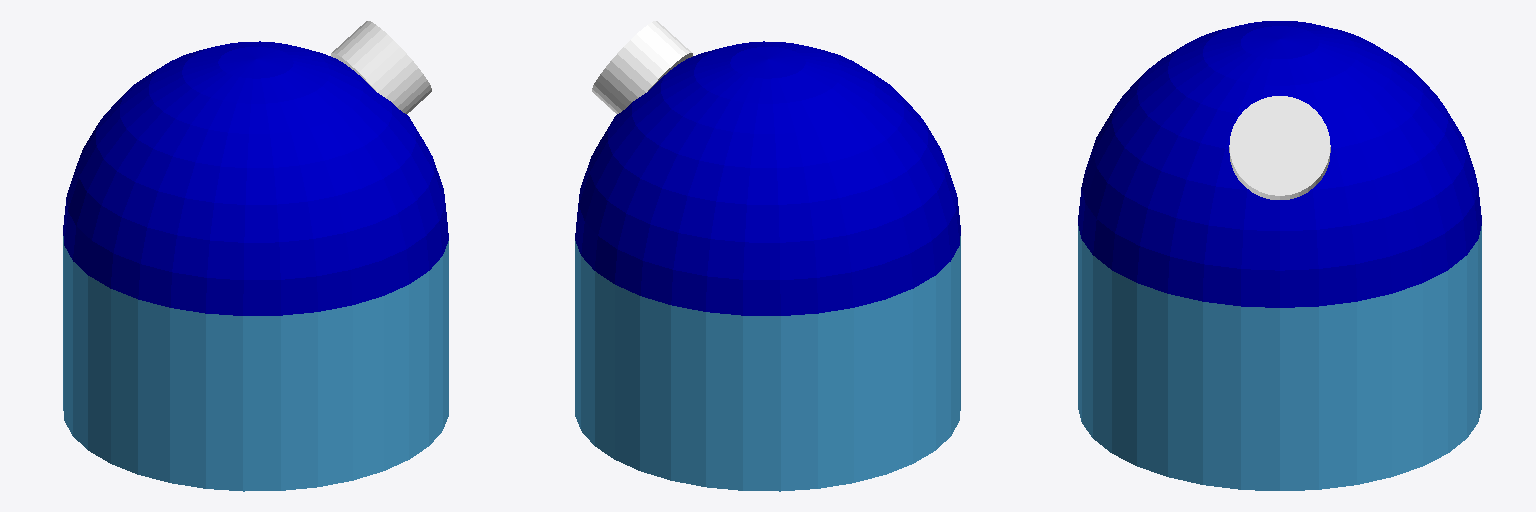
The robot description file, URDF, robot "webcam_project":
<?xml version="1.0"?>
<robot name="webcam_project">

  <link name="w"/>

  <joint name="world_to_servo1" type="fixed">
    <parent link="w"/>
    <child link="servo1"/>
    <origin xyz="0 0 0" rpy="0 0 0"/>
  </joint>

 <link name="servo1">
    <visual>
      <geometry>
        <cylinder length="0.2" radius="0.2"/>
      </geometry>
      <origin rpy="0 0 0" xyz="0 0 0.1"/>
    </visual>
  </link>

  <joint name="servo1_to_servo2" type="continuous">
    <parent link="servo1"/>
    <child link="servo2"/>
    <origin xyz="0 0 0.2"/>
    <axis xyz="0 0 1"/>
  </joint>

  <link name="servo2">
    <visual>
      <geometry>
         <sphere radius="0.2"/>
      </geometry>
      <origin rpy="0 0 0" xyz="0 0 0"/>
      <material name="blue">
        <color rgba="0 0 .8 1"/>
      </material>
    </visual>
  </link>

  <joint name="servo2_to_webcam" type="revolute">
    <limit effort="10.0" lower="-0.9" upper="0.6" velocity="0.5"/>
    <parent link="servo2"/>
    <child link="webcam"/>
    <origin xyz="0.15 0 0.15" rpy="0 1 0"/>
    <axis xyz="0 1 0"/>
  </joint>

  <link name="webcam">
    <visual>
      <geometry>
         <cylinder length="0.05" radius="0.05"/>
      </geometry>
      <origin rpy="0 0 0" xyz="0 0 0"/>
      <material name="white">
        <color rgba="1 1 1 1"/>
      </material>
    </visual>
  </link>
</robot>

--- Facts derived from the render (not from the file) ---
3 views of the same robot in one strip: view 1: azimuth 30°, elevation 25°; view 2: azimuth 150°, elevation 25°; view 3: azimuth 270°, elevation 25° (orthographic).
Robot: webcam_project — 4 links, 3 joints (1 revolute, 1 continuous, 1 fixed); root link w; default pose: all joints at 0.
Links seen in each view (by area): view 1: servo2, servo1, webcam; view 2: servo2, servo1, webcam; view 3: servo2, servo1, webcam.
Boxes of the visible links, box(x1,y1,x2,y2) form: servo2: box(63, 41, 448, 315); servo1: box(63, 236, 448, 491); webcam: box(331, 21, 431, 113); servo2: box(575, 41, 960, 315); servo1: box(575, 236, 960, 491); webcam: box(592, 21, 692, 113); servo2: box(1078, 21, 1481, 307); servo1: box(1078, 226, 1481, 490); webcam: box(1229, 96, 1330, 199).
Size in the robot's own frame: 0.4 by 0.4 by 0.4056 metres.
Geometry: primitives only (box / cylinder / sphere), no mesh files.